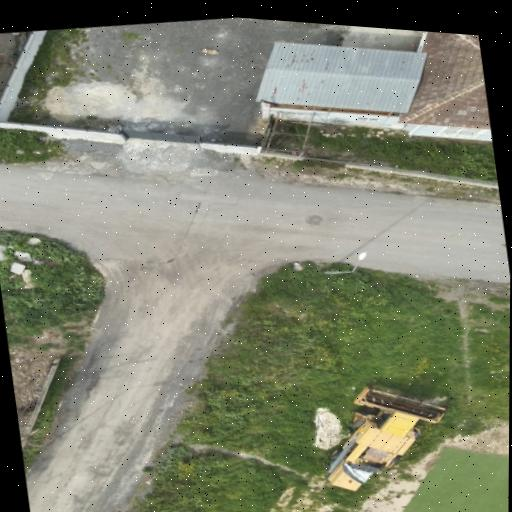harvester: (327, 386, 445, 490)
